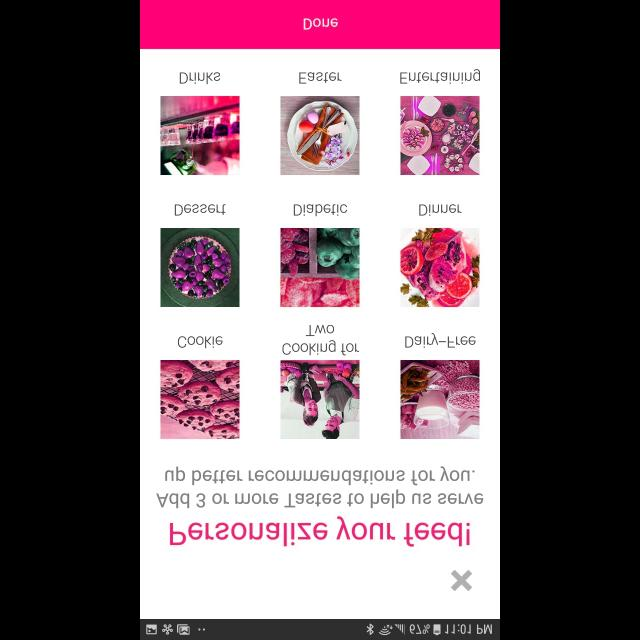icon: (451, 569, 473, 591)
image: (160, 96, 240, 176), (280, 96, 360, 176), (400, 96, 480, 176), (160, 359, 240, 438), (280, 359, 360, 438), (400, 359, 480, 438), (160, 228, 240, 306), (280, 228, 360, 306), (400, 228, 480, 306)
text: (156, 466, 484, 508), (170, 516, 470, 546), (282, 324, 360, 356), (400, 68, 480, 84), (404, 332, 476, 348), (293, 204, 347, 216), (174, 204, 226, 216), (178, 336, 222, 348), (418, 204, 462, 216), (298, 72, 342, 84), (180, 72, 220, 84)
textbutton: (140, 0, 499, 49)
uppertaskbar: (140, 618, 500, 640)
